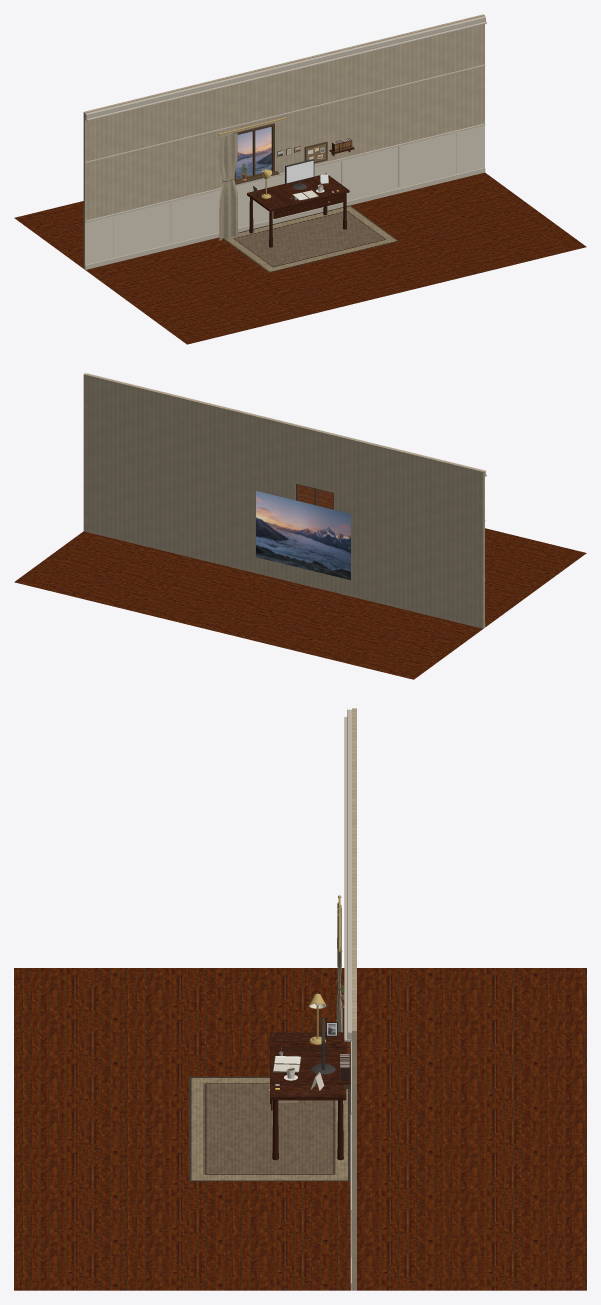
File: desk.glb
The picture shows the model from 3 angles, top to bottom: view 1: azimuth 30°, elevation 25°; view 2: azimuth 150°, elevation 25°; view 3: azimuth 270°, elevation 25°; orthographic projection. The views are drawn at different scales.
Visible parts, largest first — view 1: decor_floor, decor_wall_r, decor_wall_l, decor_wainscot_panel, decor_rug, decor_cornice, decor_skirting, decor_wall_t, decor_curtain, desk_top, decor_window_view, decor_cornice_lip (+3 smaller); view 2: decor_floor, decor_wall_r, decor_wall_l, decor_window_view, decor_wall_t, decor_wall_b, decor_cornice; view 3: decor_floor, decor_rug, desk_top, decor_wall_r, decor_cornice, decor_cornice_lip.
Part boxes in pixels (<box>): decor_floor: <box>14,172,586,344</box>; decor_wall_r: <box>272,14,484,173</box>; decor_wall_l: <box>83,75,234,269</box>; decor_wainscot_panel: <box>85,125,484,264</box>; decor_rug: <box>222,205,398,272</box>; decor_cornice: <box>85,16,485,118</box>; decor_skirting: <box>85,167,485,269</box>; decor_wall_t: <box>233,66,273,132</box>; decor_curtain: <box>219,132,238,240</box>; desk_top: <box>247,173,349,211</box>; decor_window_view: <box>236,127,271,178</box>; decor_cornice_lip: <box>85,21,486,120</box>; decor_floor: <box>14,484,586,679</box>; decor_wall_r: <box>83,373,295,582</box>; decor_wall_l: <box>334,434,484,628</box>; decor_window_view: <box>256,491,350,580</box>; decor_wall_t: <box>295,425,334,492</box>; decor_wall_b: <box>295,566,333,592</box>; decor_cornice: <box>86,373,485,475</box>; decor_floor: <box>14,968,586,1290</box>; decor_rug: <box>188,1076,350,1181</box>; desk_top: <box>270,1032,346,1100</box>; decor_wall_r: <box>352,860,356,1290</box>; decor_cornice: <box>347,709,351,1039</box>; decor_cornice_lip: <box>344,717,351,1041</box>.
Bounding box in the file's own units: 8 × 3 × 6.
Materials: 44 (16 with a texture image).
